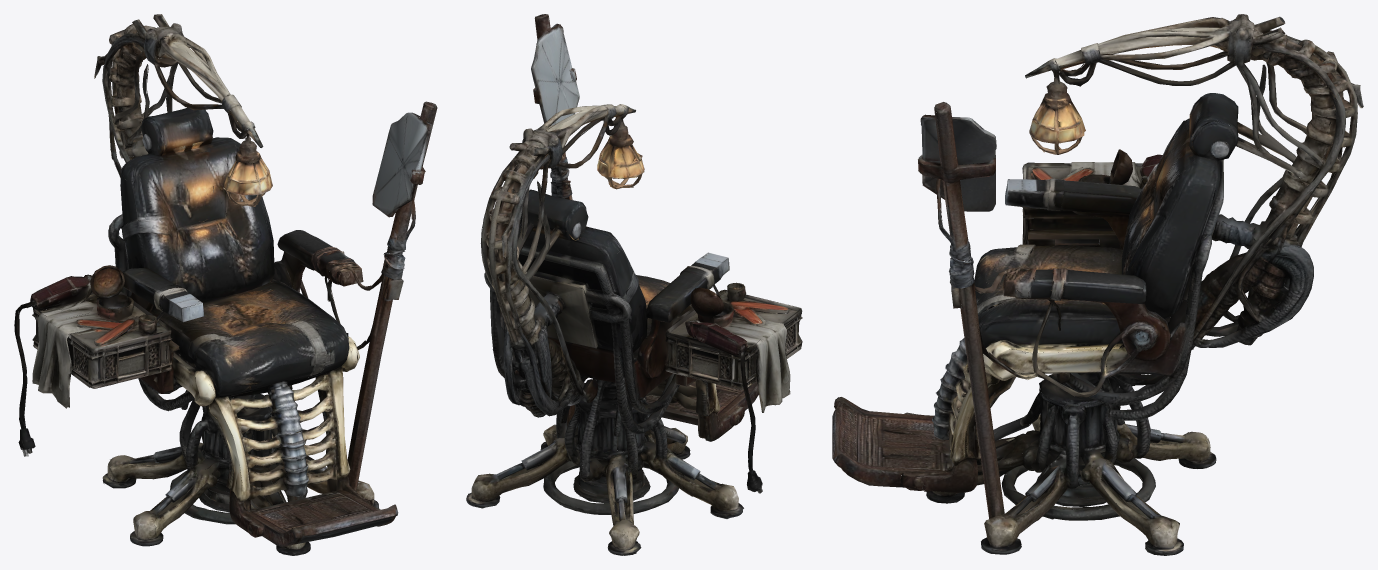
File: life_barber_chair.glb
3 renders of one model, left to right at view 1: azimuth 30°, elevation 25°; view 2: azimuth 150°, elevation 25°; view 3: azimuth 270°, elevation 25°, orthographic. The views are drawn at different scales.
Parts seen in each view (by area): view 1: node_0; view 2: node_0; view 3: node_0.
Boxes of the visible parts, x1,y1,x2,y2 form: node_0: (14,14,437,555); node_0: (466,14,802,555); node_0: (832,14,1363,555).
Bounding box in the file's own units: 0.6991 × 0.8816 × 0.8859.
1 material, 1 textured.
